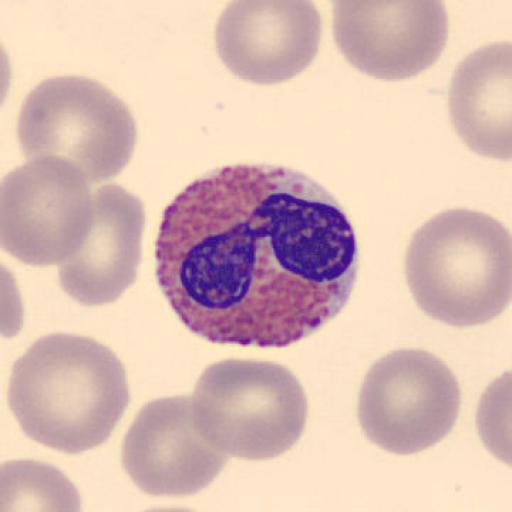RBC: (6, 329, 132, 457), (15, 72, 139, 185), (403, 204, 511, 332), (188, 356, 310, 463), (355, 346, 463, 458), (120, 393, 230, 500), (56, 183, 146, 308), (2, 154, 96, 268), (329, 1, 452, 84), (212, 0, 324, 89), (446, 38, 512, 163), (0, 455, 83, 512), (473, 365, 512, 472), (2, 259, 26, 342), (0, 37, 14, 120), (122, 502, 222, 512)
WBC: (151, 160, 362, 348)
